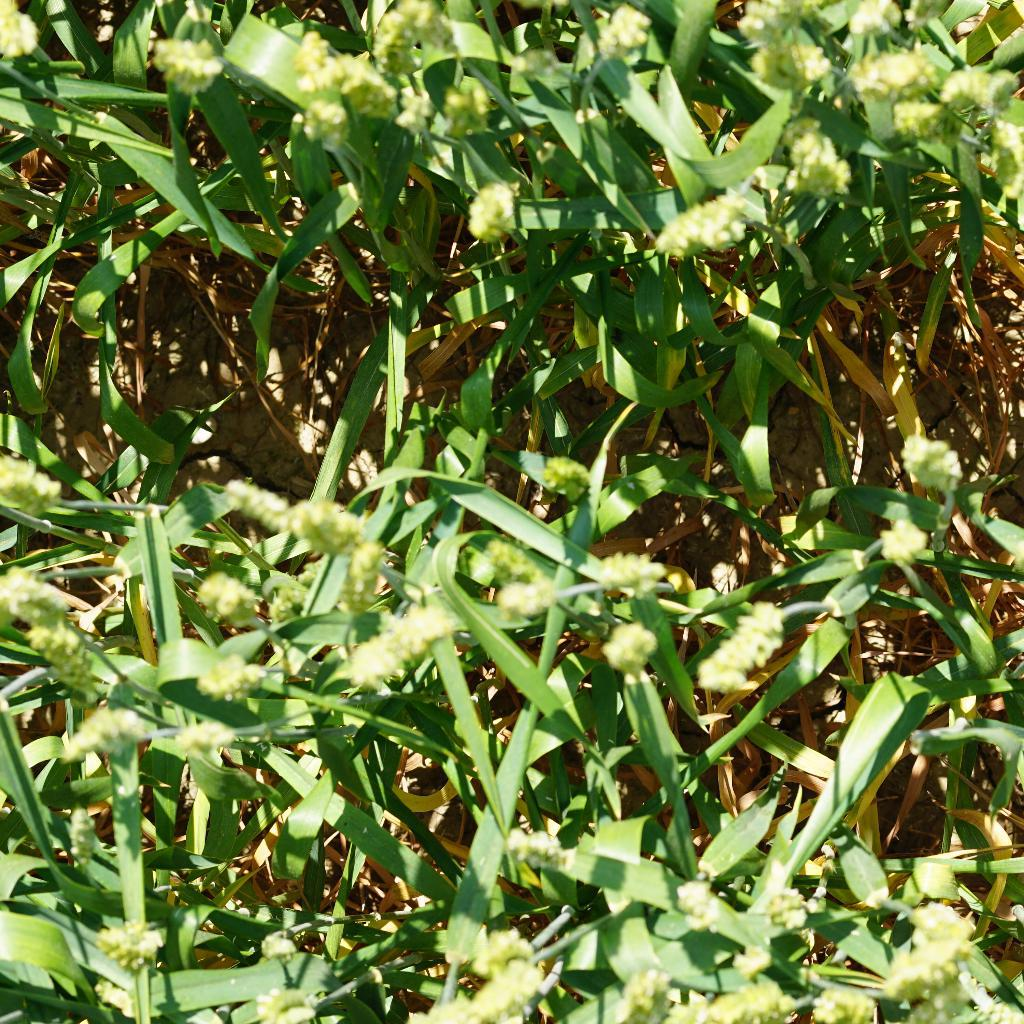0-0: (688, 585, 799, 703), (630, 183, 763, 261), (326, 604, 447, 687), (728, 0, 834, 93), (847, 32, 957, 100), (74, 907, 182, 971), (70, 698, 159, 774), (780, 109, 854, 195), (463, 967, 574, 1024), (0, 443, 78, 523), (347, 0, 425, 79), (568, 0, 664, 64), (893, 430, 982, 496), (322, 533, 392, 616), (134, 34, 234, 92), (213, 464, 291, 538), (19, 626, 97, 698), (934, 51, 1020, 116), (273, 492, 359, 556), (429, 68, 504, 141), (458, 174, 533, 245), (186, 642, 276, 701), (591, 617, 669, 681), (907, 899, 986, 961), (187, 572, 268, 631), (47, 798, 112, 870), (710, 970, 796, 1024), (325, 55, 402, 115), (481, 574, 580, 619), (6, 568, 75, 631), (976, 109, 1024, 197), (610, 961, 676, 1024), (751, 882, 825, 938), (458, 923, 542, 971), (168, 712, 247, 763), (594, 550, 666, 605), (669, 863, 724, 933), (395, 0, 467, 52), (0, 0, 47, 78), (247, 972, 317, 1024), (296, 94, 357, 153), (873, 516, 935, 572), (291, 32, 347, 93), (537, 453, 598, 509), (494, 821, 564, 867), (474, 531, 535, 583), (391, 68, 441, 131), (890, 92, 952, 141), (882, 944, 949, 989), (245, 918, 301, 971), (810, 972, 866, 1024), (897, 990, 961, 1024), (391, 1000, 475, 1024), (653, 1002, 721, 1024), (1006, 530, 1024, 582)
